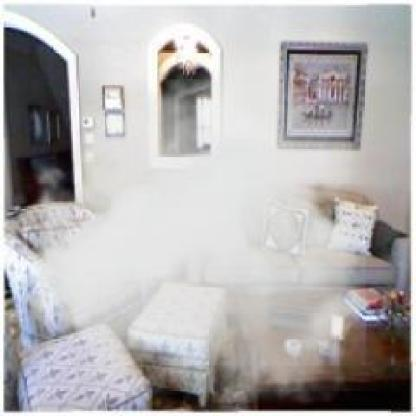Smoke: (12, 41, 366, 403)
